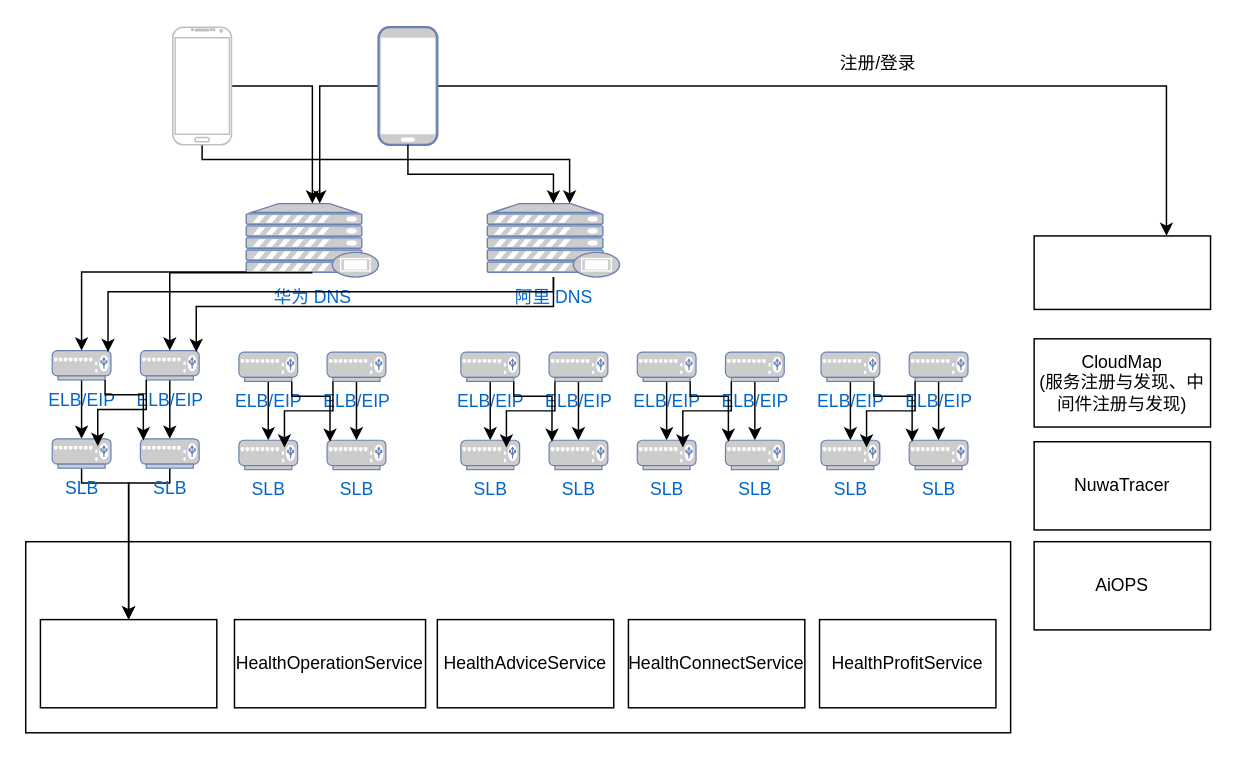
This 1236x759 diagram has some shape labels left out. The centre of each missing label's shape, as x and y in pixels:
"HealthDataService" belongs at point 128,663.
"华为账号" belongs at point 1122,271.
